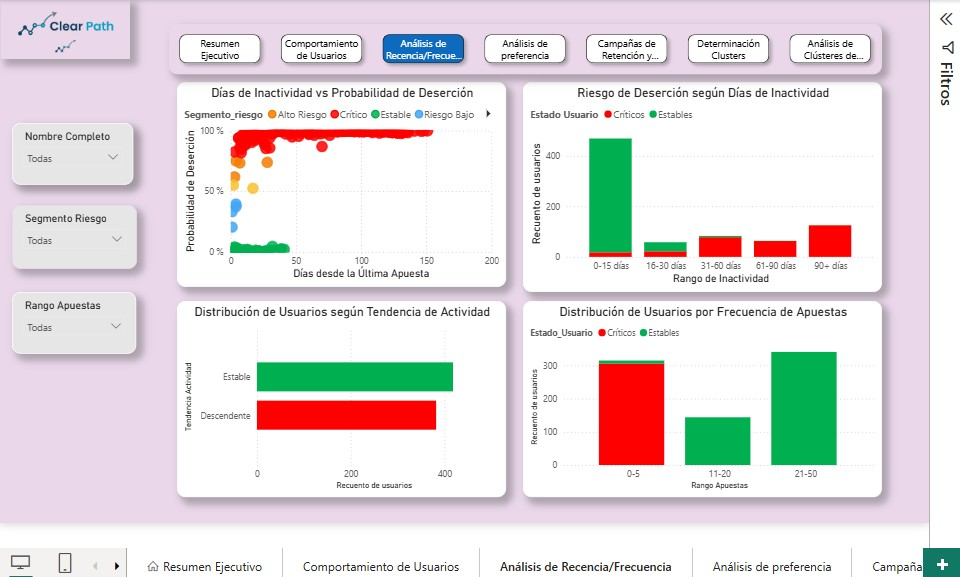

Layout of this report page (visuals, bound fields, positions):
{"tool":"powerbi","page":{"name":"Análisis de Recencia/Frecuencia","canvas":[1280,720],"ordinal":2},"visuals":[{"type":"scatterChart","title":"Días de Inactividad vs Probabilidad de Deserción","fields":{"Series":["churn.segmento_riesgo"],"X":["churn.dias_desde_ultima_apuesta"],"Y":["churn.probabilidad_fuga"]},"box":[245,112.9,452.8,282.2],"z":0},{"type":"clusteredBarChart","title":"Distribución de Usuarios según Tendencia de Actividad","fields":{"Category":["churn.tendencia_actividad"],"Y":["CountNonNull(churn.id_usuario)"]},"box":[245,414.3,452.8,269.8],"z":1000},{"type":"columnChart","title":"Riesgo de Deserción según Días de Inactividad","fields":{"Y":["CountNonNull(churn.id_usuario)"],"Category":["churn.Rango_Inactividad"],"Series":["churn.Estado_Usuario"]},"box":[721.2,112.9,494.1,289],"z":2000},{"type":"columnChart","title":"Distribución de Usuarios por Frecuencia de Apuestas","fields":{"Category":["churn.Rango Apuestas"],"Y":["CountNonNull(churn.id_usuario)"],"Series":["churn.Estado_Usuario"]},"box":[721.2,414.3,494.1,269.8],"z":3000},{"type":"slicer","fields":{"Values":["churn.Nombre_Completo"]},"box":[17.9,169.3,166.5,85.3],"z":4000},{"type":"slicer","fields":{"Values":["churn.Rango Apuestas"]},"box":[17.9,401.9,170.7,85.3],"z":5000},{"type":"image","box":[2.8,0,177.5,81.2],"z":6000},{"type":"pageNavigator","box":[234,33,981.3,68.8],"z":7000},{"type":"slicer","fields":{"Values":["churn.segmento_riesgo"]},"box":[17.9,282.2,172,88.1],"z":8000}]}

Visuals, with their boxes on the page's 1280x720 design canvas (x1, y1, x2, y2). These are canvas units, not pixel positions in the 960x577 screenshot, which may show the page scaled, cropped or inside an application window:
"Días de Inactividad vs Probabilidad de Deserción" scatterChart: [x1=245, y1=113, x2=698, y2=395]
"Distribución de Usuarios según Tendencia de Actividad" clusteredBarChart: [x1=245, y1=414, x2=698, y2=684]
"Riesgo de Deserción según Días de Inactividad" columnChart: [x1=721, y1=113, x2=1215, y2=402]
"Distribución de Usuarios por Frecuencia de Apuestas" columnChart: [x1=721, y1=414, x2=1215, y2=684]
slicer - churn.Nombre_Completo: [x1=18, y1=169, x2=184, y2=255]
slicer - churn.Rango Apuestas: [x1=18, y1=402, x2=189, y2=487]
image: [x1=3, y1=0, x2=180, y2=81]
pageNavigator: [x1=234, y1=33, x2=1215, y2=102]
slicer - churn.segmento_riesgo: [x1=18, y1=282, x2=190, y2=370]
